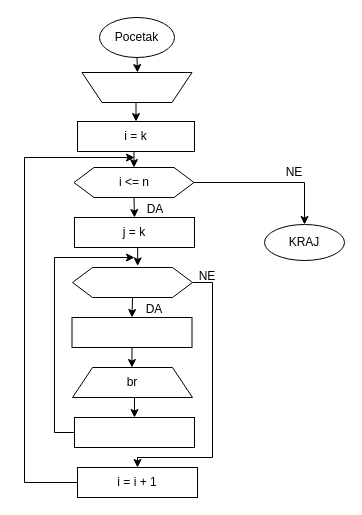
The diagram is 362 pixels wide and 515 high, and some of its shapes have lost their labels. Here are the shapes that lost their labels. From the top down, the centre of each, then its label:
At point 136,87: "k, n".
At point 132,282: "j <= n".
At point 131,332: "br = 10*i + j".
At point 134,432: "j =j +1".
